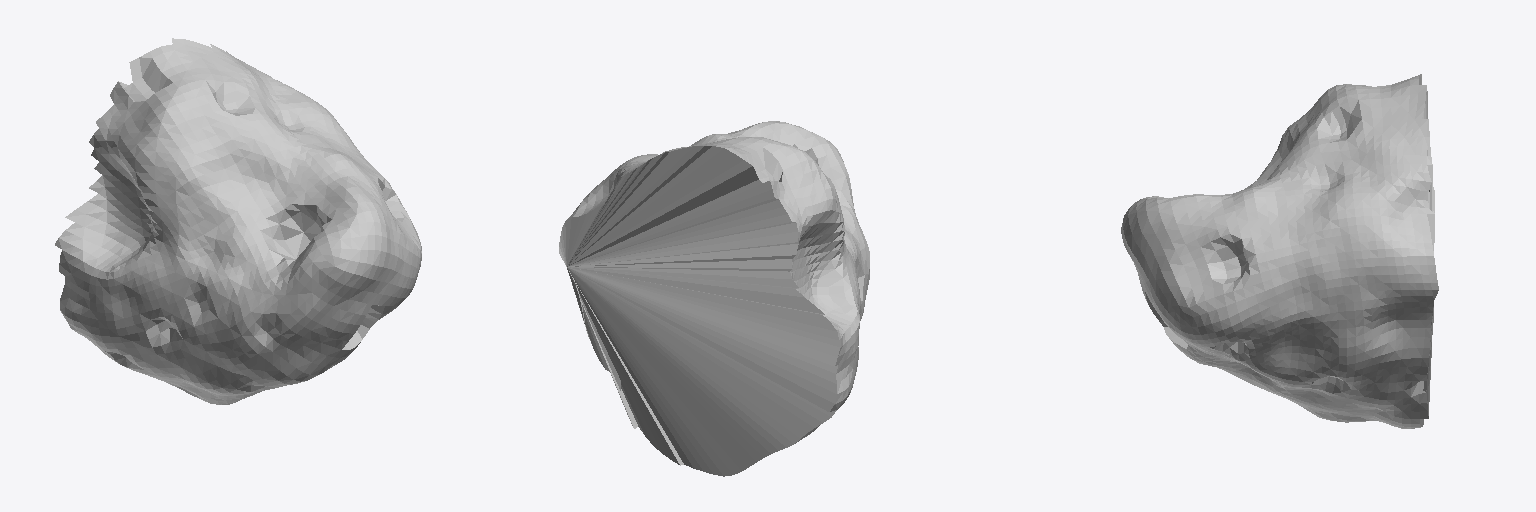
File: AsteroidHalf1.obj
3 views of the same model, side by side, from view 1: azimuth 30°, elevation 25°; view 2: azimuth 150°, elevation 25°; view 3: azimuth 270°, elevation 25° (orthographic).
Visible parts, largest first — view 1: asteroid.001; view 2: asteroid.001; view 3: asteroid.001.
Boxes of the visible parts, box(x1,y1,x2,y2) form: asteroid.001: box(55, 38, 421, 404); asteroid.001: box(559, 121, 869, 476); asteroid.001: box(1121, 74, 1438, 428).
Size of the model in its own units: 1.05 by 1.23 by 1.06.